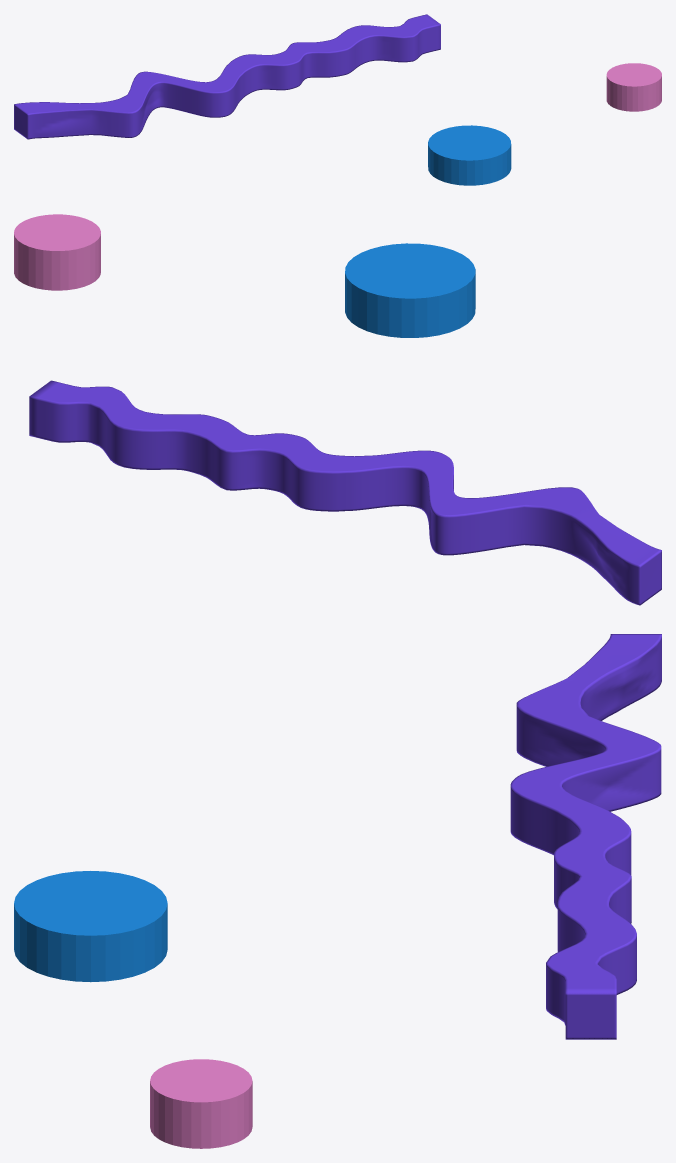
Rendered from blender_walls.dae.
3 renders of one model, top to bottom at view 1: azimuth 30°, elevation 25°; view 2: azimuth 150°, elevation 25°; view 3: azimuth 270°, elevation 25°, orthographic. The views are drawn at different scales.
Visible parts, largest first — view 1: Cube, Cylinder, Cylinder.001; view 2: Cube, Cylinder, Cylinder.001; view 3: Cube, Cylinder, Cylinder.001.
Boxes of the visible parts, box(x1,y1,x2,y2) form: Cube: box(14, 14, 440, 139); Cylinder: box(428, 125, 511, 185); Cylinder.001: box(606, 63, 661, 111); Cube: box(29, 380, 661, 605); Cylinder: box(345, 243, 475, 337); Cylinder.001: box(14, 214, 100, 290); Cube: box(510, 634, 661, 1039); Cylinder: box(14, 871, 167, 982); Cylinder.001: box(150, 1059, 252, 1148).
Bounding box in the file's own units: 43.25 × 25.3 × 2.11.
